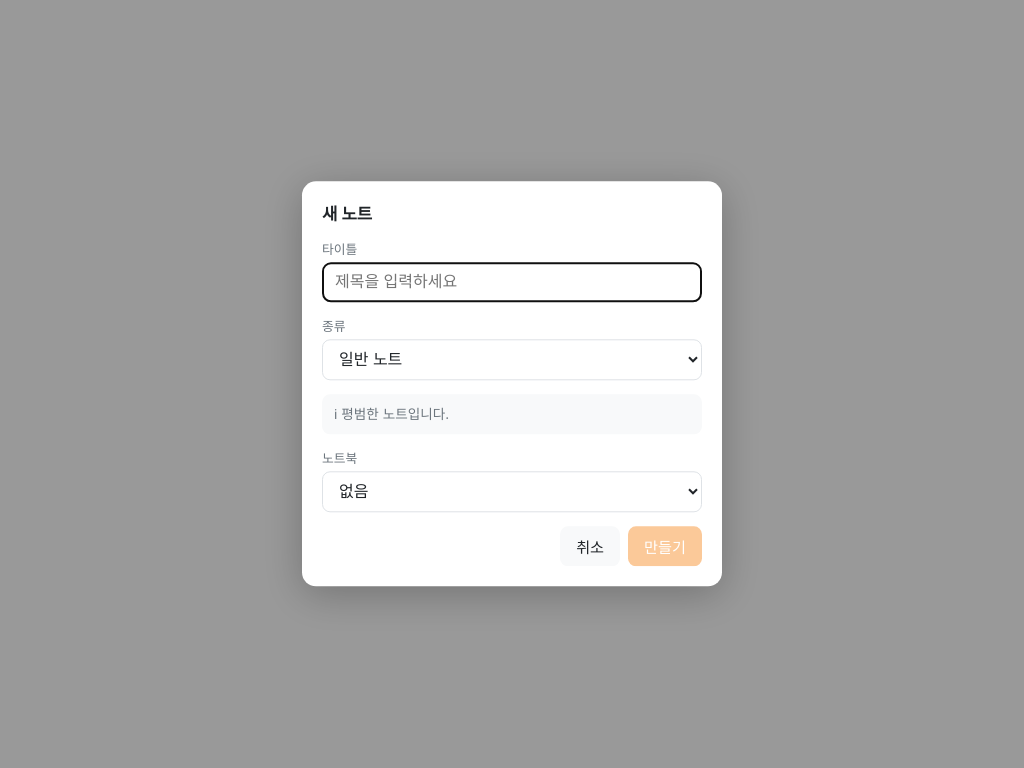
Scenario: NoteTitleDialog › 타이틀이 비면 확정 비활성, 입력하면 활성
Expected: the button "만들기" is disabled, [628,527,702,567]
Type "메모" into the field labelled "타이틀" at point(512, 282), box [322,262,702,302]
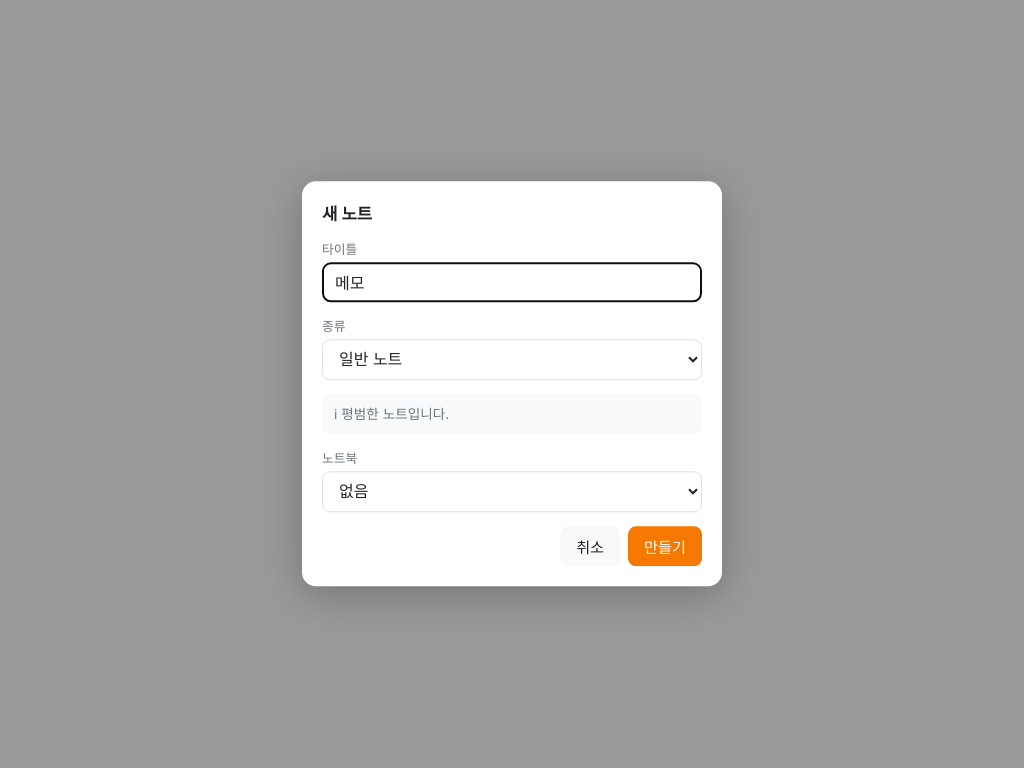
Expected: the button "만들기" is enabled, [628,527,702,567]
